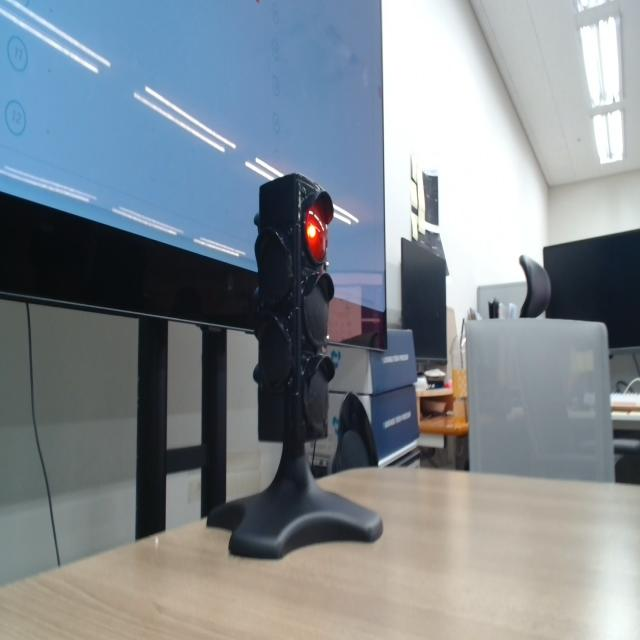red_light: (306, 205, 327, 263)
